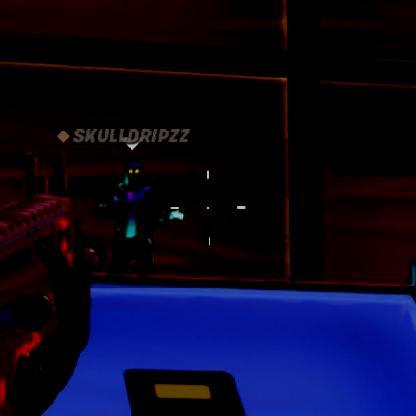person: (99, 160, 165, 274)
